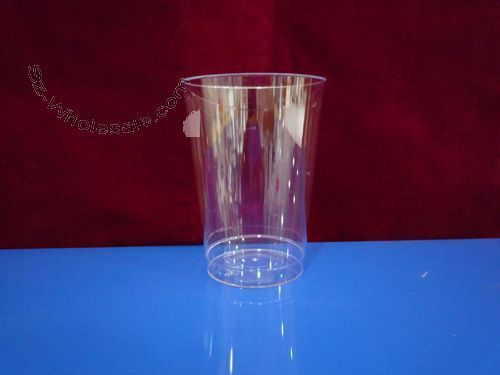plastic_bottle: (173, 69, 330, 294)
